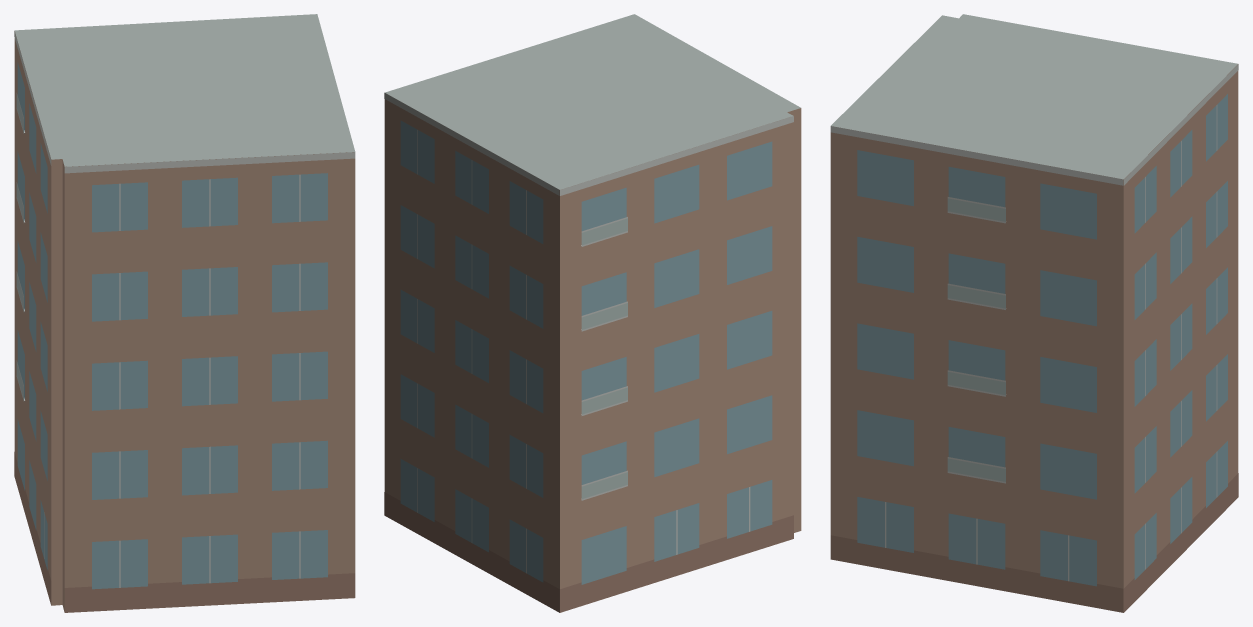
Rendered from survey-upis-33031789.glb.
3 views of the same model, side by side, from view 1: azimuth 30°, elevation 25°; view 2: azimuth 150°, elevation 25°; view 3: azimuth 270°, elevation 25° (orthographic). The views are drawn at different scales.
Visible parts, largest first — view 1: survey-upis-33031789.tmp; view 2: survey-upis-33031789.tmp; view 3: survey-upis-33031789.tmp.
Boxes of the visible parts, x1=… form: survey-upis-33031789.tmp: x1=14, y1=14, x2=355, y2=612; survey-upis-33031789.tmp: x1=384, y1=14, x2=801, y2=612; survey-upis-33031789.tmp: x1=830, y1=14, x2=1238, y2=612.
Bounding box in the file's own units: 13.51 × 16.5 × 14.08.
